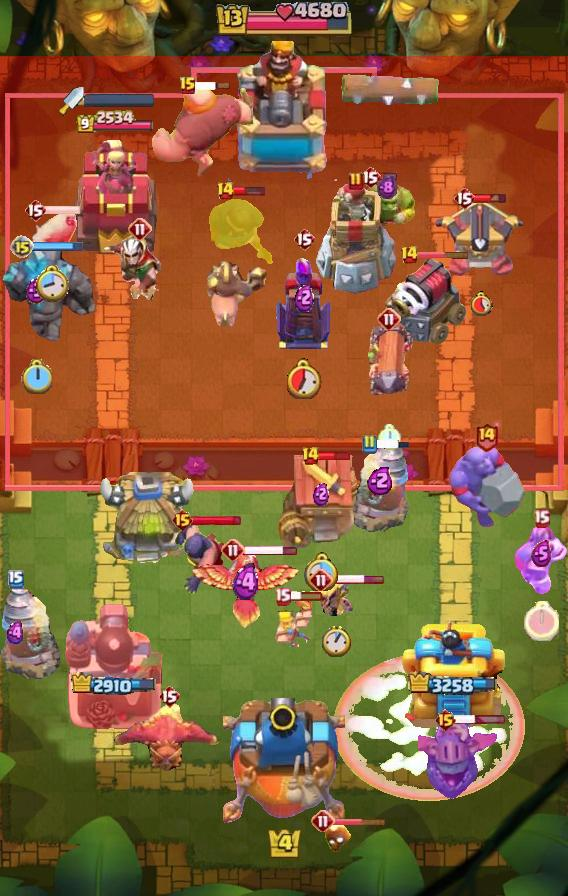archer: (274, 600, 312, 649)
archer-queen: (445, 442, 527, 530)
arrows: (313, 576, 358, 617)
balloon: (149, 82, 253, 182)
bar: (70, 138, 158, 256)
battle-healer: (364, 321, 414, 403)
bomber: (323, 822, 351, 854)
cannoneer-tower: (0, 243, 98, 345)
clock: (213, 2, 355, 40)
electro-spirit: (232, 563, 261, 602), (367, 465, 393, 495), (24, 276, 47, 304), (294, 283, 314, 312), (531, 541, 552, 568), (5, 621, 27, 645), (377, 175, 397, 200), (313, 482, 329, 506)
elixir: (286, 357, 321, 399), (524, 601, 559, 641), (304, 553, 339, 592), (35, 264, 69, 303), (20, 359, 51, 393), (321, 625, 350, 657), (469, 292, 493, 317), (379, 424, 402, 450)
elixir-golem-small: (514, 524, 568, 596)
emote: (242, 543, 297, 556), (191, 513, 242, 526), (331, 574, 385, 585), (32, 241, 84, 252), (454, 714, 506, 725), (416, 249, 470, 259), (333, 818, 387, 827), (43, 204, 81, 216), (472, 192, 508, 204), (375, 438, 411, 450), (288, 590, 324, 602), (316, 450, 351, 462), (232, 185, 265, 197), (195, 81, 231, 91), (379, 171, 398, 182)
flying-machine: (357, 180, 417, 234)
freeze: (207, 259, 267, 329)
giant: (26, 207, 78, 257)
golden-knight: (190, 552, 302, 632)
golem: (382, 258, 468, 346)
ice-spirit-evolution-symbol: (273, 255, 335, 351)
king-tower: (228, 41, 340, 181), (223, 698, 345, 826)
king-tower-bar: (84, 93, 156, 107)
lava-pup: (435, 196, 527, 278)
magic-archer: (350, 441, 410, 533), (0, 588, 60, 680)
minion: (338, 73, 440, 107)
monk: (172, 521, 228, 595)
mother-witch: (111, 704, 227, 776)
night-witch: (417, 719, 499, 799)
phoenix-big: (332, 651, 526, 802)
prince: (97, 472, 199, 568)
queen-tower: (399, 617, 507, 731)
royal-hog: (198, 196, 276, 268)
selected: (409, 671, 500, 698), (70, 672, 157, 698), (74, 110, 154, 135)
skeleton-king: (101, 236, 179, 300)
sparky: (278, 454, 364, 552)
text: (474, 420, 499, 451), (128, 217, 152, 241), (10, 235, 34, 259), (377, 307, 401, 331), (221, 538, 245, 562), (309, 568, 333, 592), (311, 809, 335, 833), (171, 508, 194, 532), (434, 708, 457, 732), (359, 165, 381, 189), (453, 186, 475, 210), (24, 198, 46, 222), (293, 227, 315, 251), (158, 684, 180, 708), (400, 245, 420, 265), (216, 181, 235, 201), (301, 446, 320, 466), (179, 76, 197, 96), (273, 587, 291, 606), (348, 171, 364, 191), (361, 434, 377, 454), (533, 509, 550, 527), (8, 570, 24, 588)
tower-bar: (64, 601, 164, 731)
zappy: (314, 180, 399, 296)
